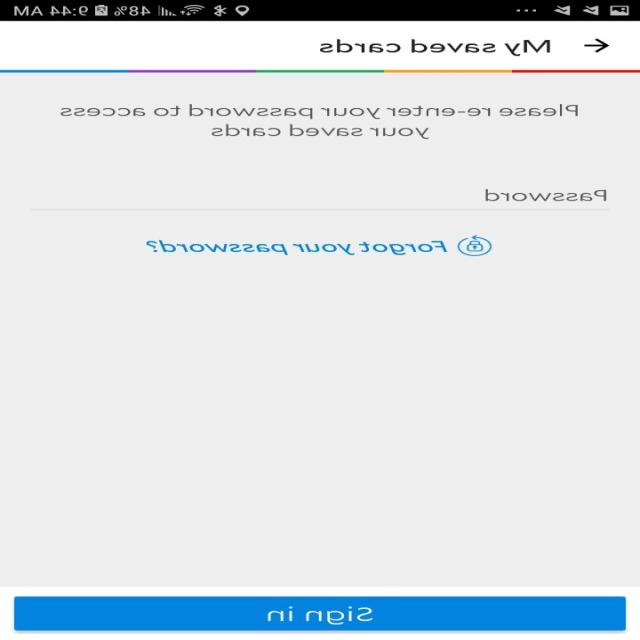EditText: (31, 188, 610, 210)
Icon: (457, 234, 492, 256), (583, 38, 610, 53)
Text: (61, 103, 578, 139), (146, 239, 448, 255), (320, 39, 551, 57), (484, 188, 608, 202)
TextButton: (15, 596, 627, 631)
